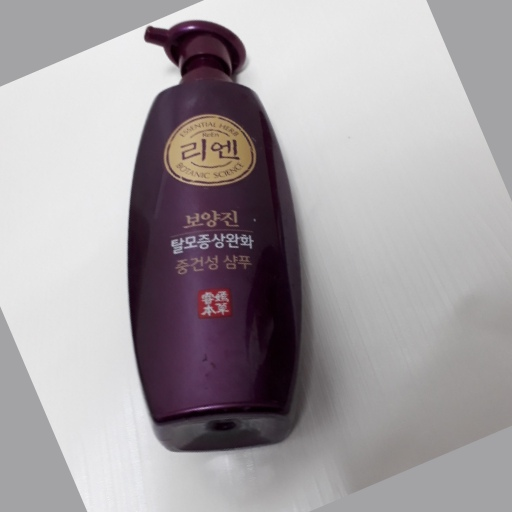Plastic_3: (124, 16, 300, 457)
